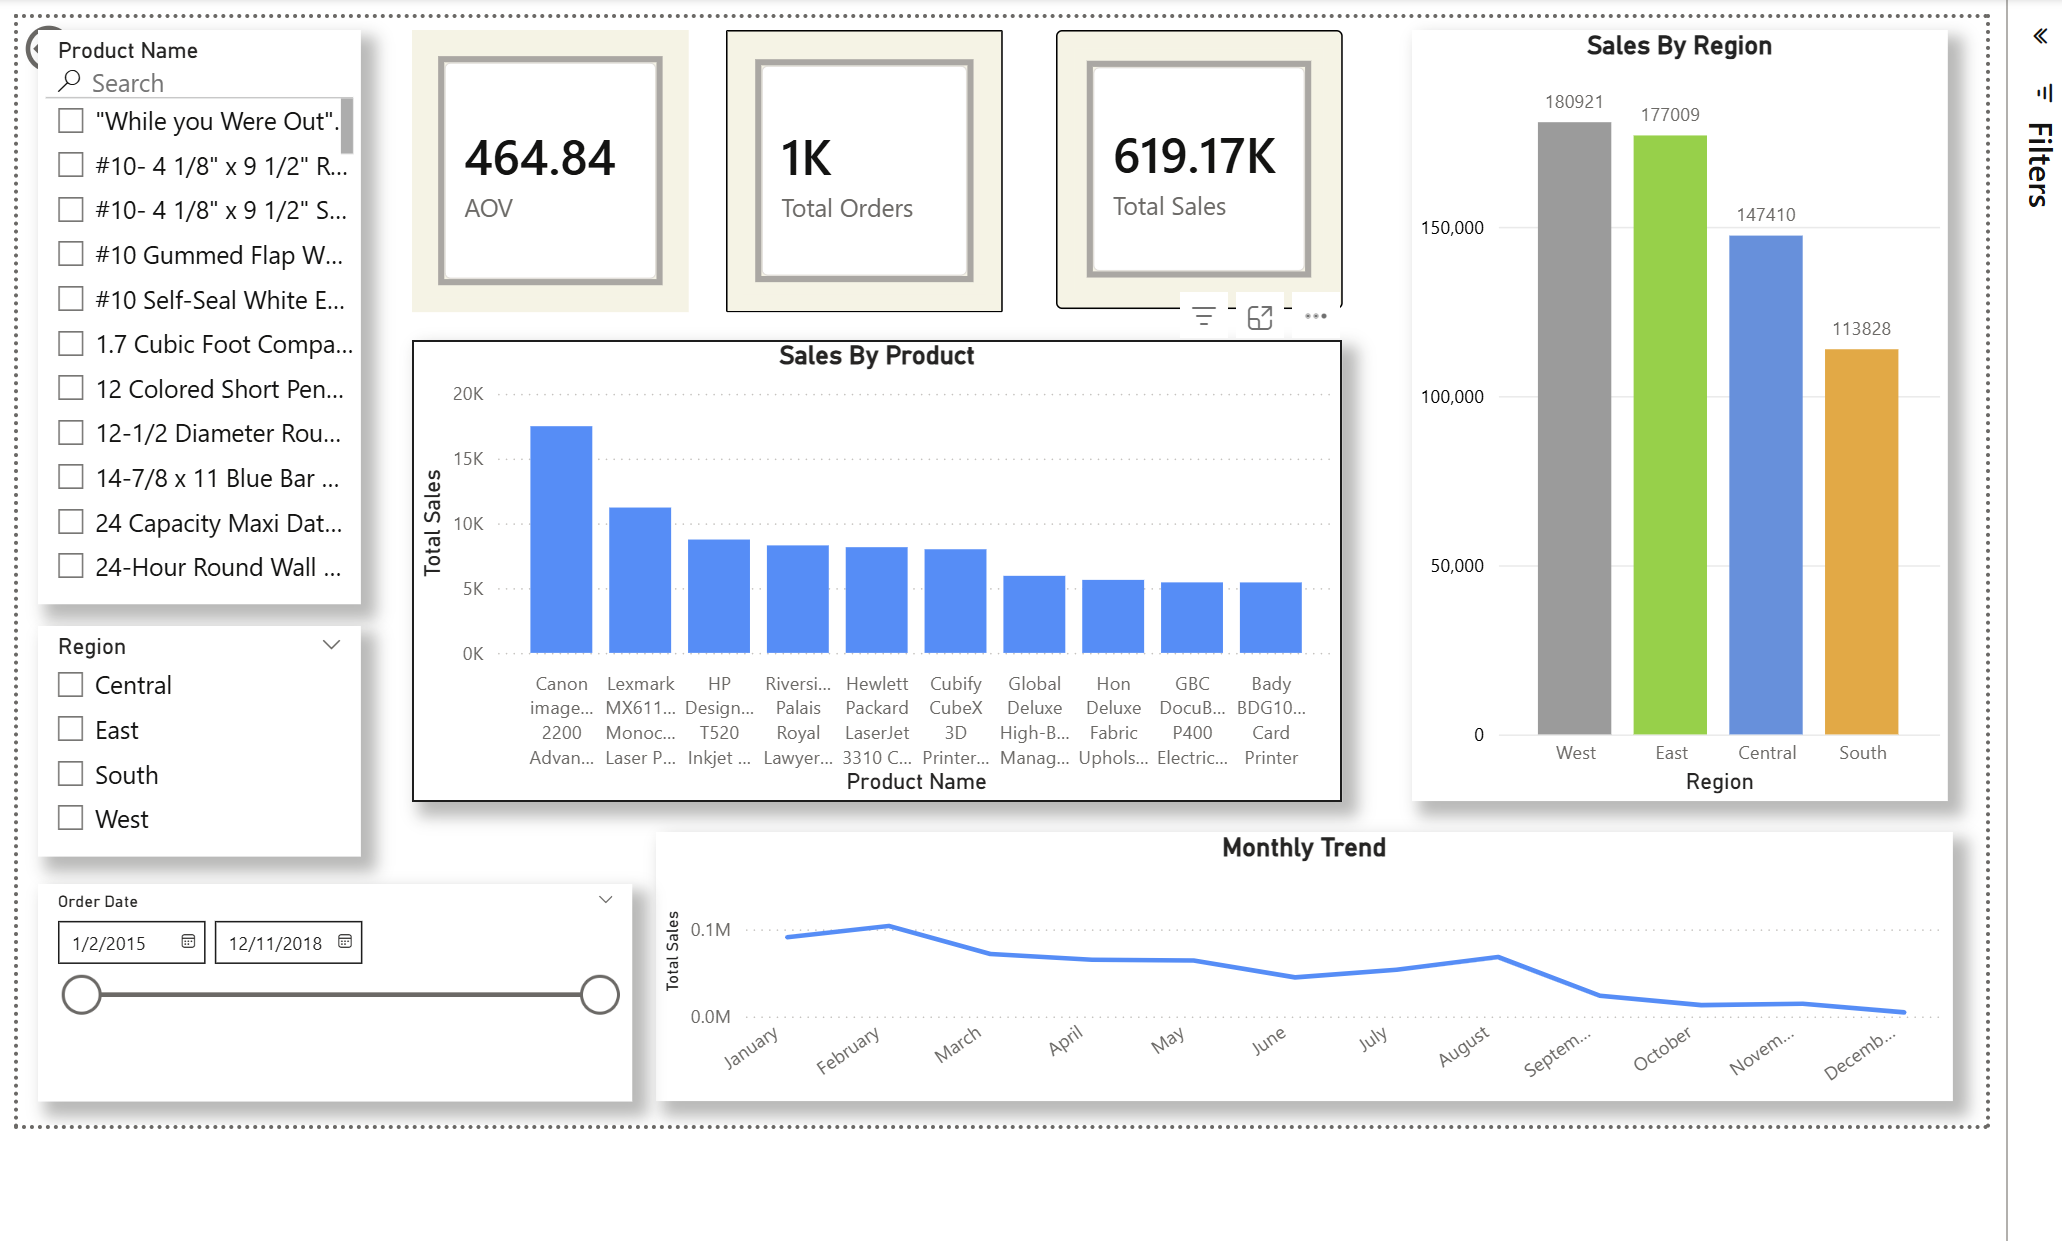

The dashboard page shown, as its layout file describes it:
{"tool":"powerbi","page":{"name":"Page 1","canvas":[1280,720],"ordinal":0},"visuals":[{"type":"cardVisual","fields":{"Data":["train.Total Sales"]},"box":[675,8.3,186.7,181.7],"z":0},{"type":"cardVisual","fields":{"Data":["train.Total Orders"]},"box":[460,8.3,180,183.3],"z":1000},{"type":"cardVisual","fields":{"Data":["train.AOV"]},"box":[256.7,8.3,180,183.3],"z":2000},{"type":"columnChart","title":"Sales By Product","fields":{"Category":["train.Product Name"],"Y":["train.Total Sales"]},"box":[256.7,210,605,300],"z":3000},{"type":"actionButton","box":[0,0,100,40],"z":4000},{"type":"clusteredColumnChart","title":"Sales By Region","fields":{"Category":["train.Region"],"Y":["train.Total Sales"]},"box":[906.7,8.3,348.3,501.7],"z":5000},{"type":"lineChart","title":"Monthly Trend","fields":{"Category":["train.Order Date.Variation.Date Hierarchy.Month","train.Order Date.Variation.Date Hierarchy.Day"],"Y":["train.Total Sales"]},"box":[415,530,843.3,175],"z":6000},{"type":"slicer","fields":{"Values":["train.Product Name"]},"box":[13.3,8.3,210,373.3],"z":7000},{"type":"slicer","fields":{"Values":["train.Region"]},"box":[13.3,395,210,150],"z":8000},{"type":"slicer","fields":{"Values":["train.Order Date"]},"box":[13.3,563.3,386.7,141.7],"z":8500}]}

Visuals, with their boxes on the page's 1280x720 design canvas (x1, y1, x2, y2). These are canvas units, not pixel positions in the 2062x1241 screenshot, which may show the page scaled, cropped or inside an application window:
cardVisual - train.Total Sales: [x1=675, y1=8, x2=862, y2=190]
cardVisual - train.Total Orders: [x1=460, y1=8, x2=640, y2=192]
cardVisual - train.AOV: [x1=257, y1=8, x2=437, y2=192]
"Sales By Product" columnChart: [x1=257, y1=210, x2=862, y2=510]
actionButton: [x1=0, y1=0, x2=100, y2=40]
"Sales By Region" clusteredColumnChart: [x1=907, y1=8, x2=1255, y2=510]
"Monthly Trend" lineChart: [x1=415, y1=530, x2=1258, y2=705]
slicer - train.Product Name: [x1=13, y1=8, x2=223, y2=382]
slicer - train.Region: [x1=13, y1=395, x2=223, y2=545]
slicer - train.Order Date: [x1=13, y1=563, x2=400, y2=705]
